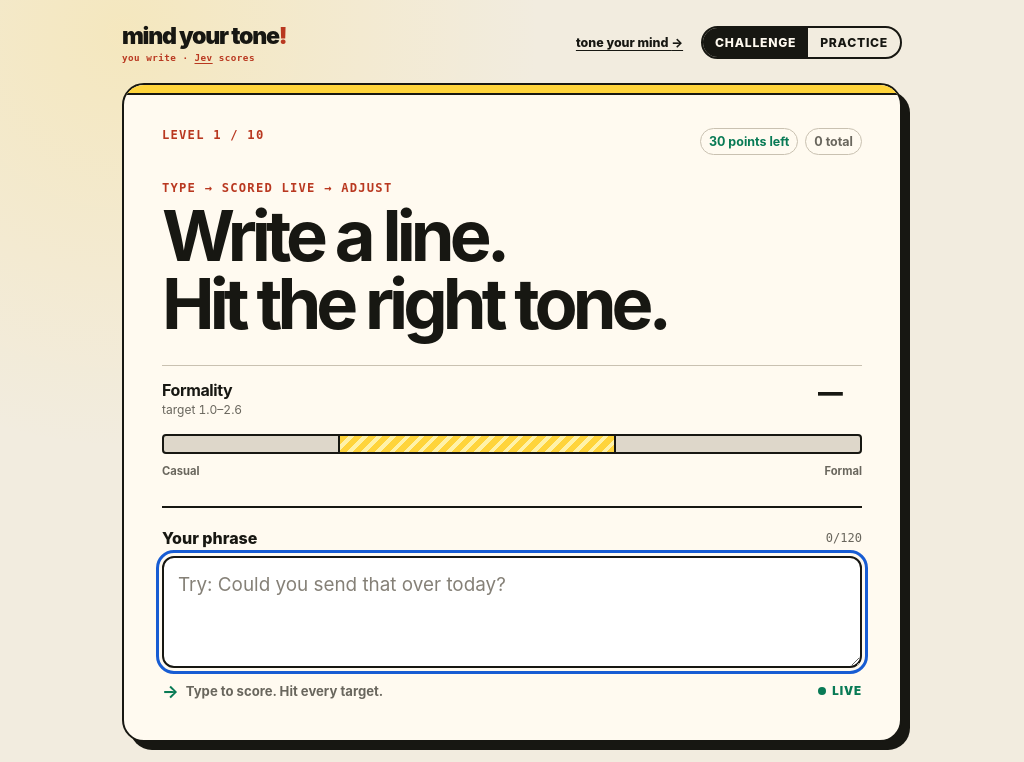
Test case: live challenge play › scores automatically after typing pauses and keeps a missed level
Step 1. Type "Please send the signed copy by noon." into the text box labelled "Your phrase" → point(512, 612), box left=162, top=556, right=862, bottom=668
Wait 650 ms
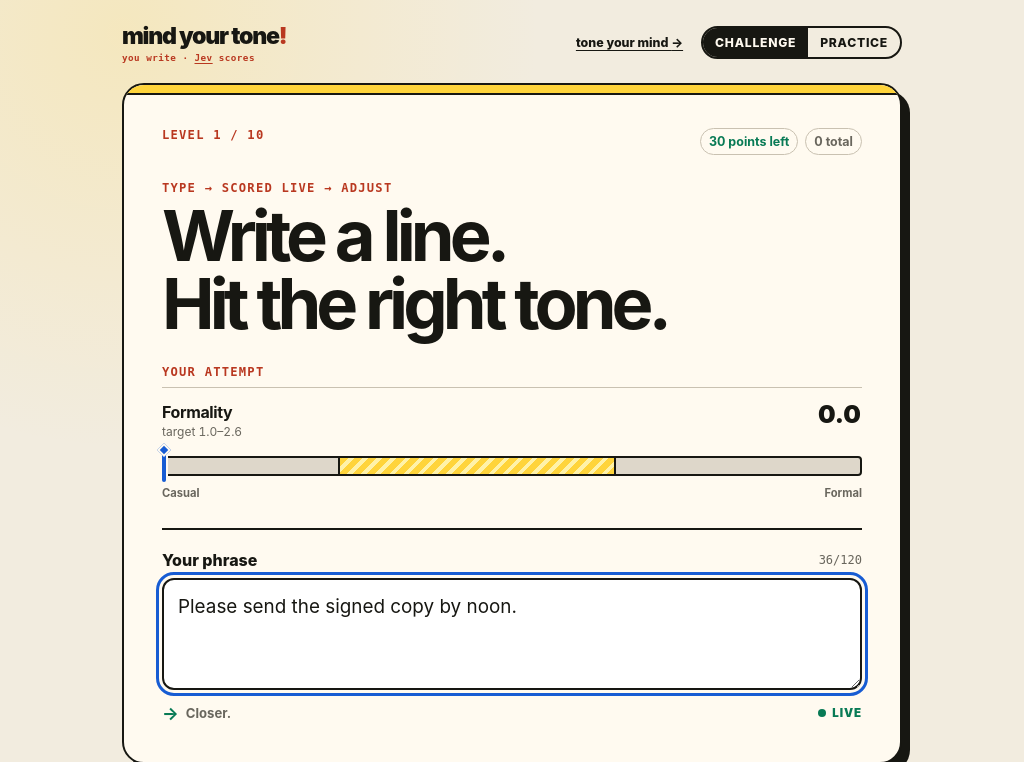
Expected: the text "level 1 / 10" is shown, left=162, top=128, right=264, bottom=142
Now the text "Closer." is shown, box left=186, top=705, right=231, bottom=721
